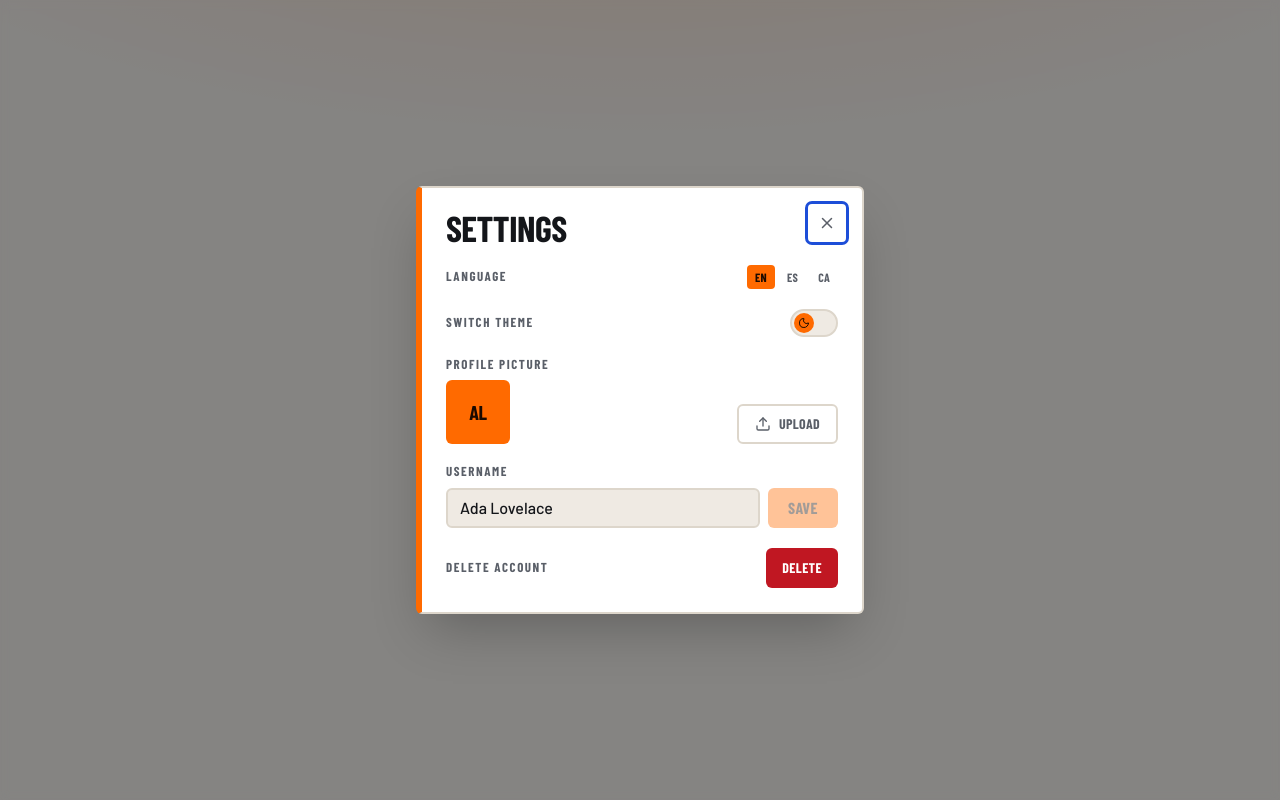
Test case: SettingsModal username › keeps the old monogram when the save fails
Replace the text in the field named "Username" with "Grace Hopper": x=603, y=508 x1=446 y1=488 x2=760 y2=528
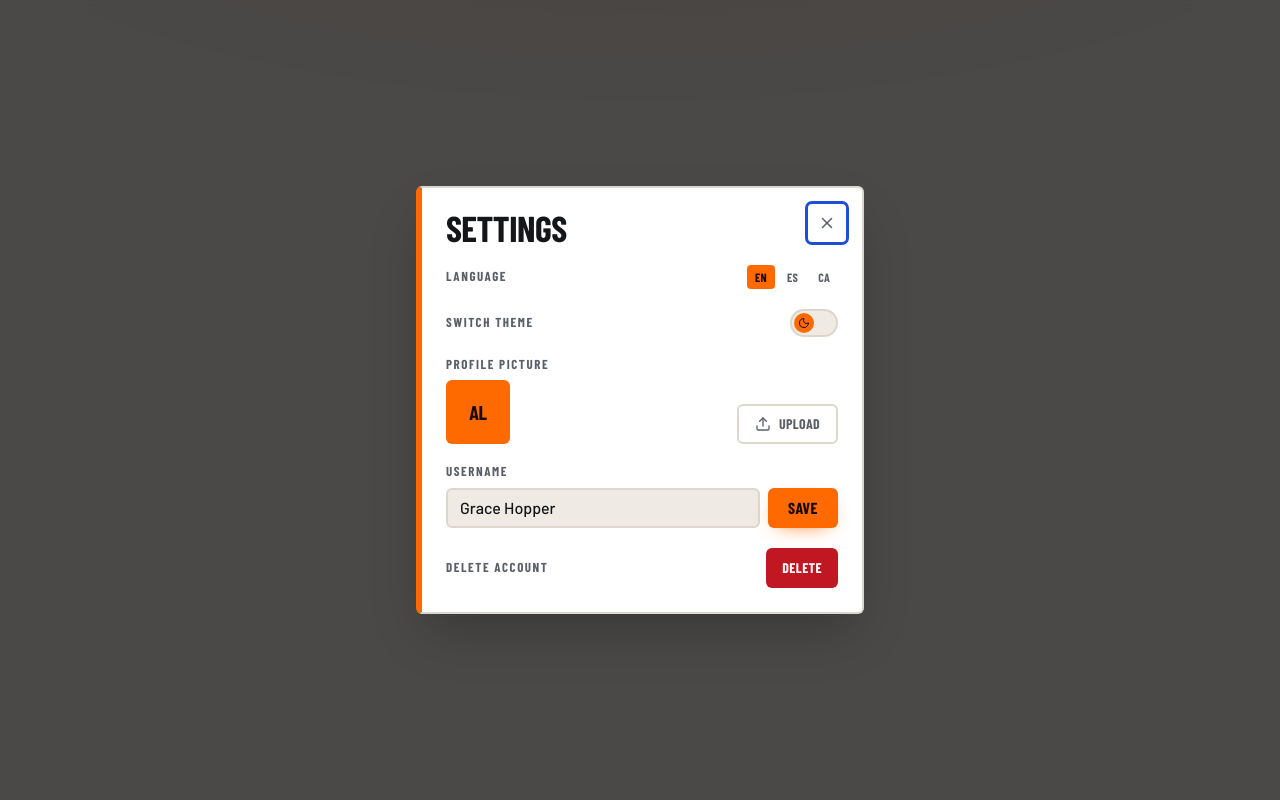
Click the button "Save": x=803, y=508 x1=768 y1=488 x2=838 y2=528
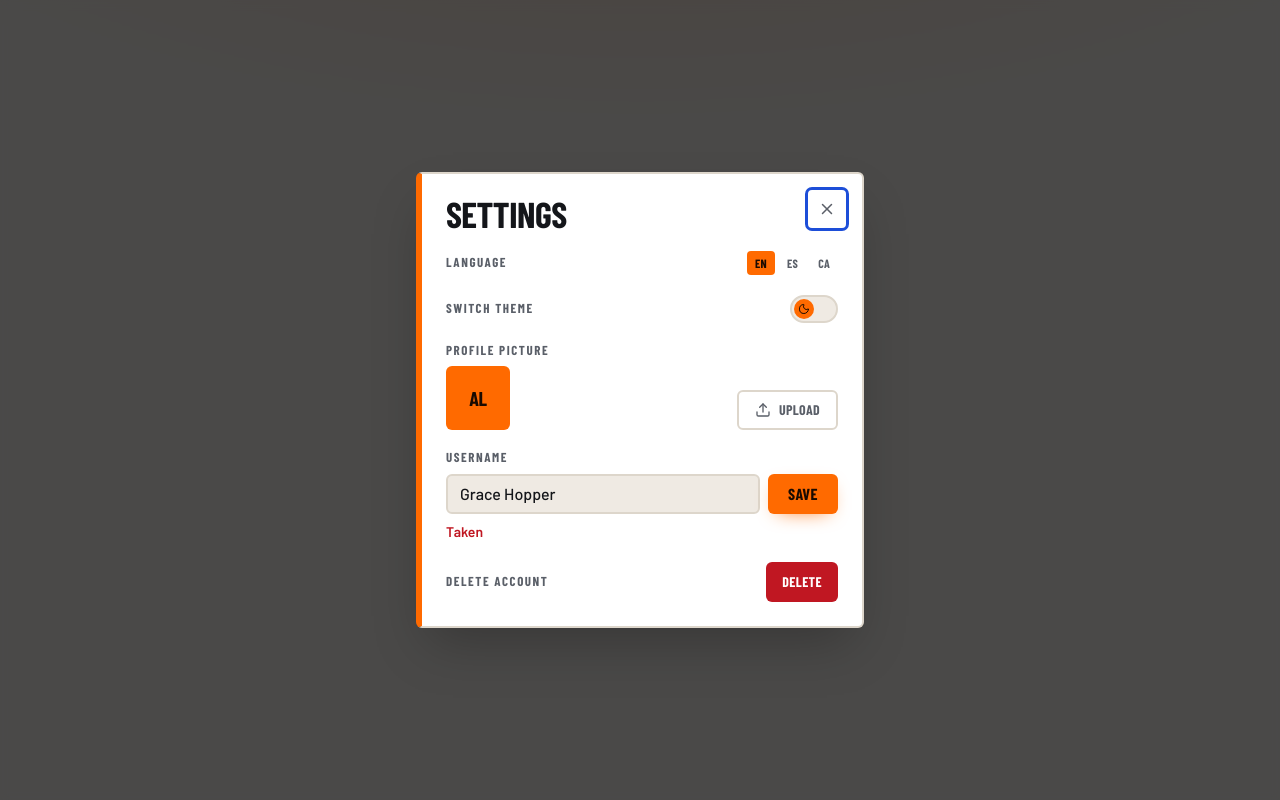
Expected: the text "AL" is shown, x1=446 y1=366 x2=510 y2=430
Expected: the message reads "Taken", x1=446 y1=523 x2=483 y2=540
